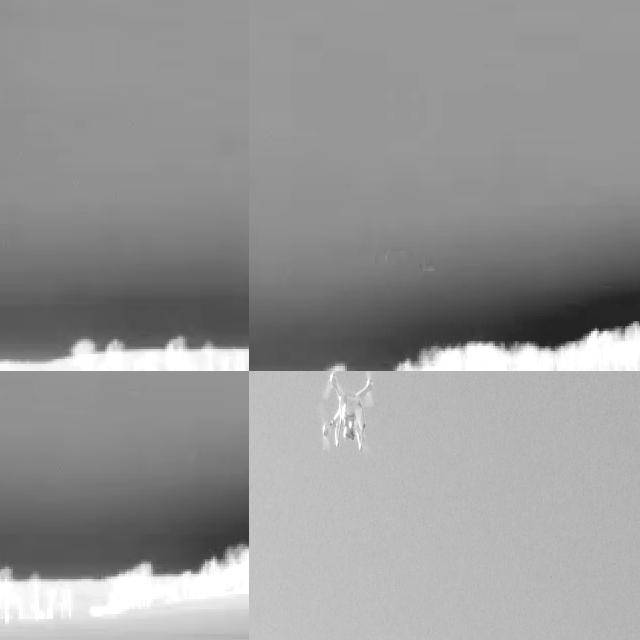0: (419, 258, 449, 288)
drone: (313, 371, 380, 459)
